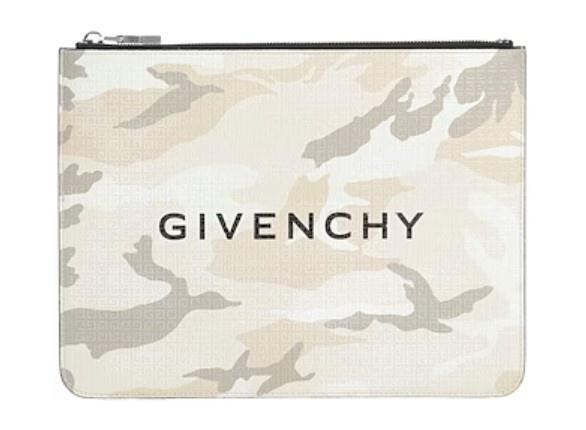GIVENCHY: (148, 185, 431, 268)
